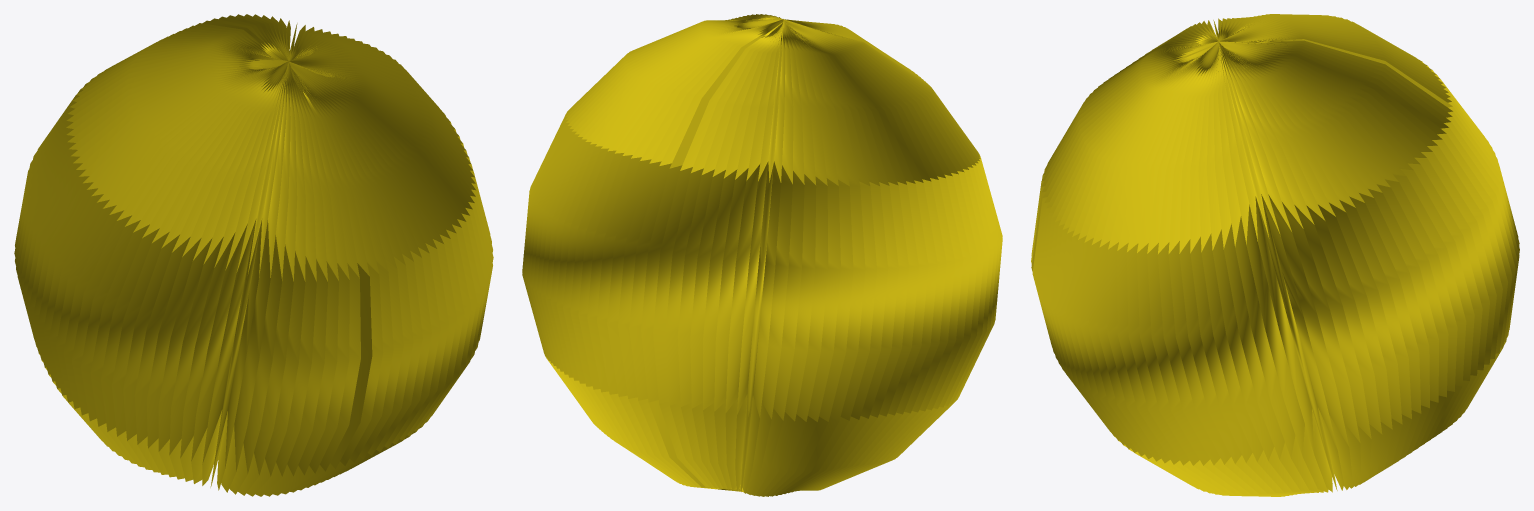
File: uuon-spherical-stem-cell.glb
3 renders of one model, left to right at view 1: azimuth 30°, elevation 25°; view 2: azimuth 150°, elevation 25°; view 3: azimuth 270°, elevation 25°, orthographic. The views are drawn at different scales.
Parts seen in each view (by area): view 1: spherical_stem_cell_solid; view 2: spherical_stem_cell_solid; view 3: spherical_stem_cell_solid.
Boxes of the visible parts, left/top/right/bottom form: spherical_stem_cell_solid: left=14, top=14, right=493, bottom=496; spherical_stem_cell_solid: left=522, top=14, right=1002, bottom=496; spherical_stem_cell_solid: left=1031, top=14, right=1519, bottom=496.
Size of the model in its own units: 240 by 241 by 242.
